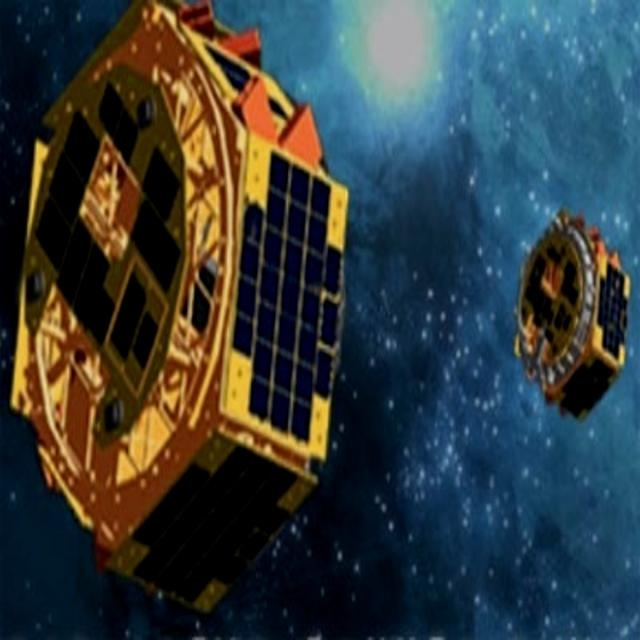satellite: (7, 8, 356, 622), (513, 200, 631, 432)
